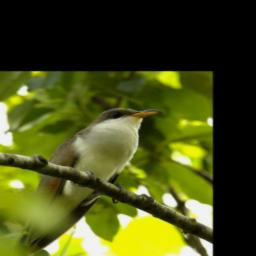Cuckoo: (10, 106, 164, 256)
